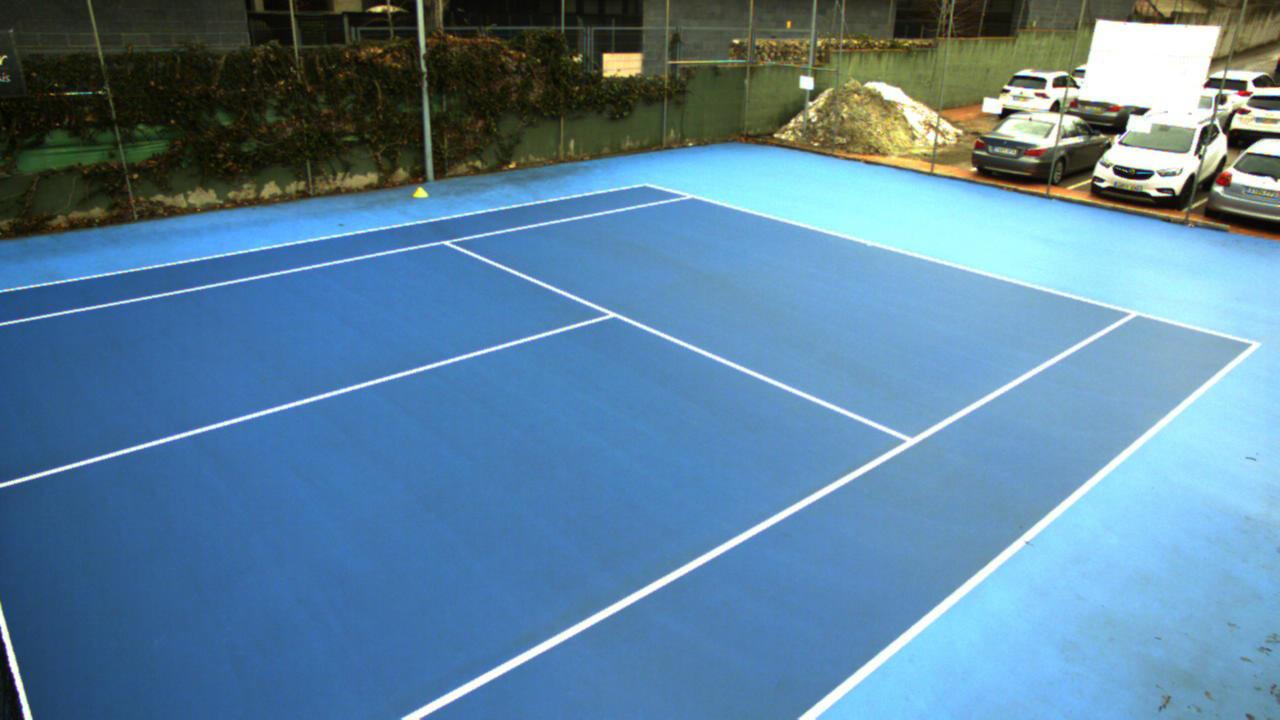cancha_tenis: (0, 194, 1139, 720)
point_f1: (676, 181, 705, 203)
point_f2: (1116, 298, 1150, 325)
point_fc1: (860, 234, 878, 254)
point_i1: (436, 230, 463, 253)
point_i2: (888, 426, 923, 457)
point_ic1: (591, 300, 624, 330)
